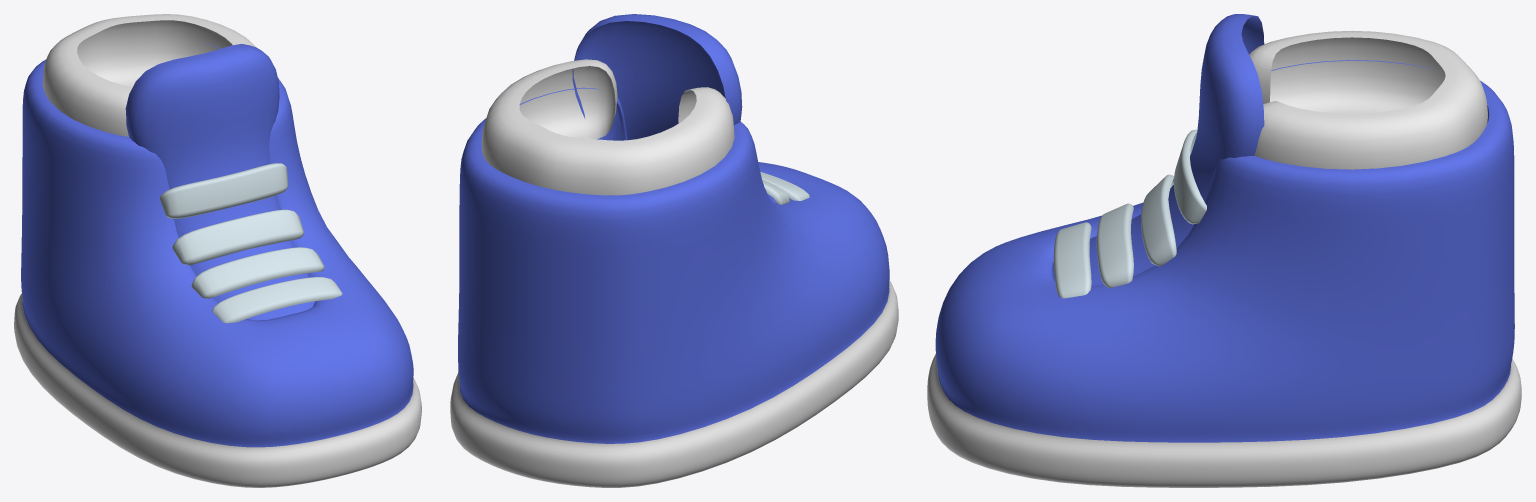
Rendered from Shoes.fbx.
The picture shows the model from 3 angles, left to right: view 1: azimuth 30°, elevation 25°; view 2: azimuth 150°, elevation 25°; view 3: azimuth 270°, elevation 25°; orthographic projection. The views are drawn at different scales.
Visible parts, largest first — view 1: Shoe, Cube.001, Cube.002, NurbsPath.002, NurbsPath.003, NurbsPath.001, NurbsPath; view 2: Shoe, Cube.002, Cube.001, NurbsPath; view 3: Shoe, Cube.002, Cube.001, NurbsPath.001, NurbsPath, NurbsPath.002, NurbsPath.003.
Boxes of the visible parts, box(x1,y1,x2,y2) form: Shoe: box(14, 43, 421, 487); Cube.001: box(125, 44, 314, 320); Cube.002: box(42, 14, 256, 136); NurbsPath.002: box(172, 209, 303, 265); NurbsPath.003: box(160, 163, 288, 218); NurbsPath.001: box(191, 247, 324, 298); NurbsPath: box(212, 277, 342, 323); Shoe: box(450, 87, 898, 487); Cube.002: box(481, 59, 734, 195); Cube.001: box(572, 14, 776, 203); NurbsPath: box(760, 172, 809, 200); Shoe: box(927, 60, 1521, 487); Cube.002: box(1249, 30, 1487, 169); Cube.001: box(1052, 14, 1264, 286); NurbsPath.001: box(1096, 203, 1133, 287); NurbsPath: box(1053, 222, 1091, 298); NurbsPath.002: box(1141, 174, 1176, 266); NurbsPath.003: box(1173, 129, 1206, 224).
Size of the model in its own units: 63.65 by 71.74 by 100.
